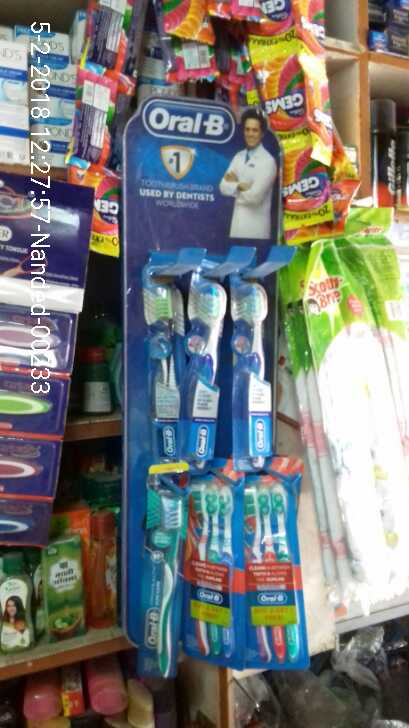oralb: (245, 476, 306, 664), (187, 482, 239, 657), (230, 276, 272, 467), (139, 274, 180, 459), (188, 273, 227, 459), (144, 496, 180, 675)
